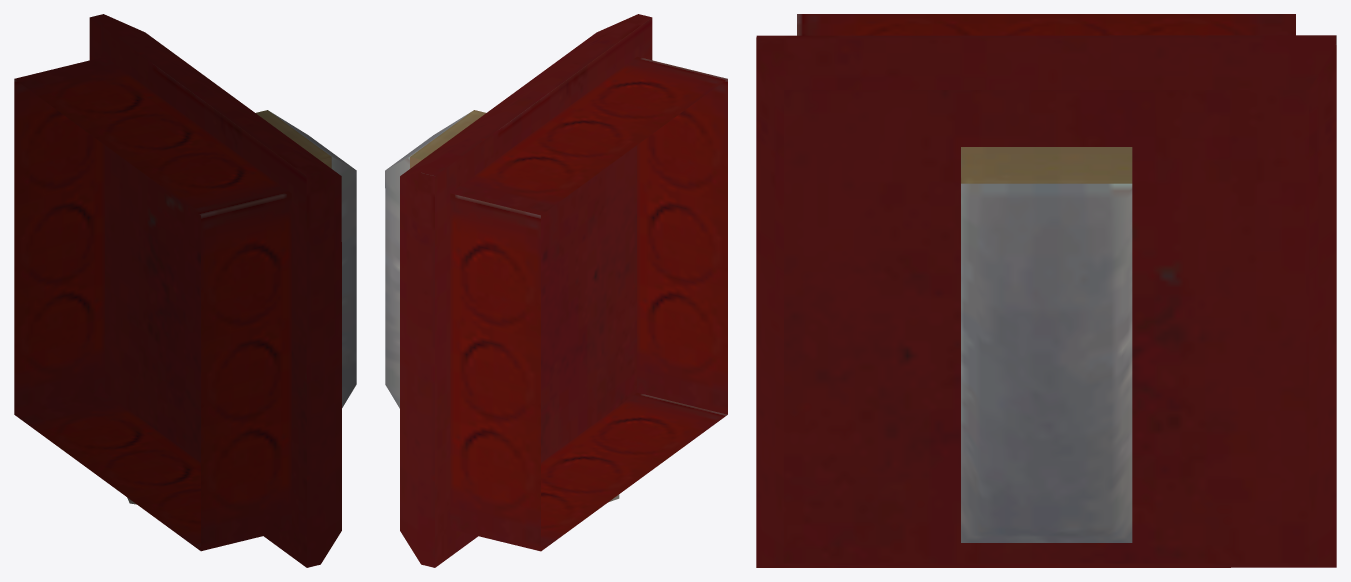
File: com_fire_light_lod1.glb
3 renders of one model, left to right at view 1: azimuth 30°, elevation 25°; view 2: azimuth 150°, elevation 25°; view 3: azimuth 270°, elevation 25°, orthographic. The views are drawn at different scales.
Visible parts, largest first — view 1: surf0; view 2: surf0; view 3: surf0.
Boxes of the visible parts, x1=… form: surf0: x1=14, y1=14, x2=356, y2=567; surf0: x1=385, y1=14, x2=727, y2=567; surf0: x1=756, y1=14, x2=1336, y2=567.
Size of the model in its own units: 4.55 by 6.83 by 6.87.
